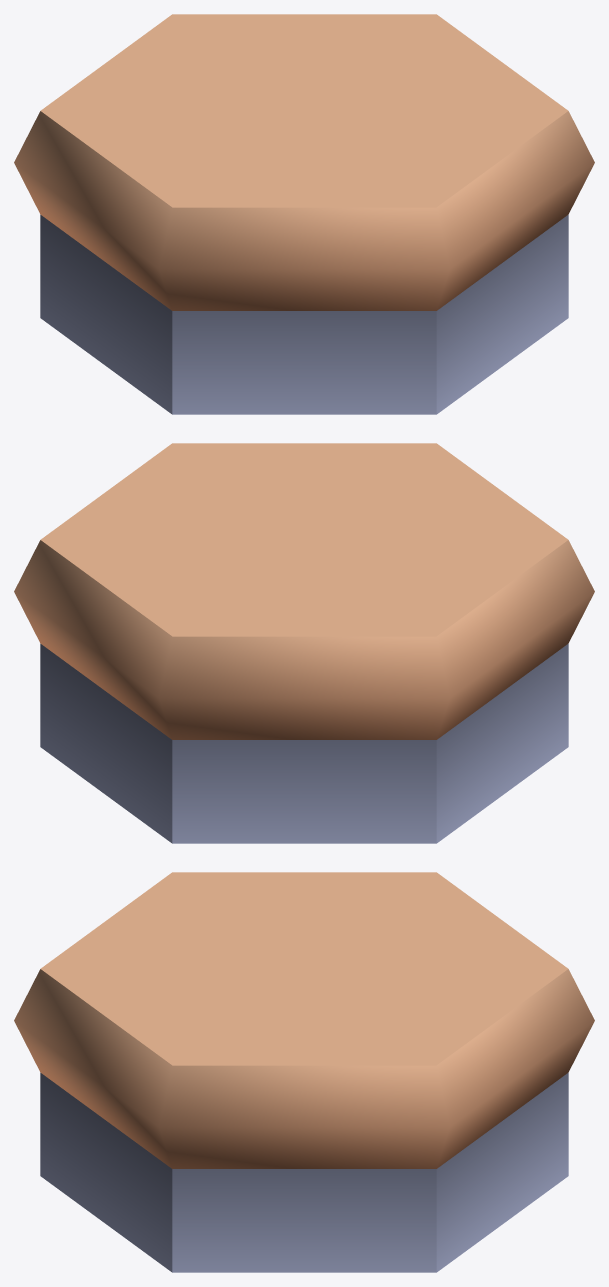
File: block-grass-low-hexagon.glb
3 renders of one model, top to bottom at view 1: azimuth 30°, elevation 25°; view 2: azimuth 150°, elevation 25°; view 3: azimuth 270°, elevation 25°, orthographic.
Parts seen in each view (by area): view 1: block-grass-low-hexagon; view 2: block-grass-low-hexagon; view 3: block-grass-low-hexagon.
Boxes of the visible parts, left/top/right/bottom form: block-grass-low-hexagon: left=14, top=14, right=594, bottom=414; block-grass-low-hexagon: left=14, top=443, right=594, bottom=843; block-grass-low-hexagon: left=14, top=872, right=594, bottom=1272.
Bounding box in the file's own units: 1.1 × 0.5 × 1.27.
